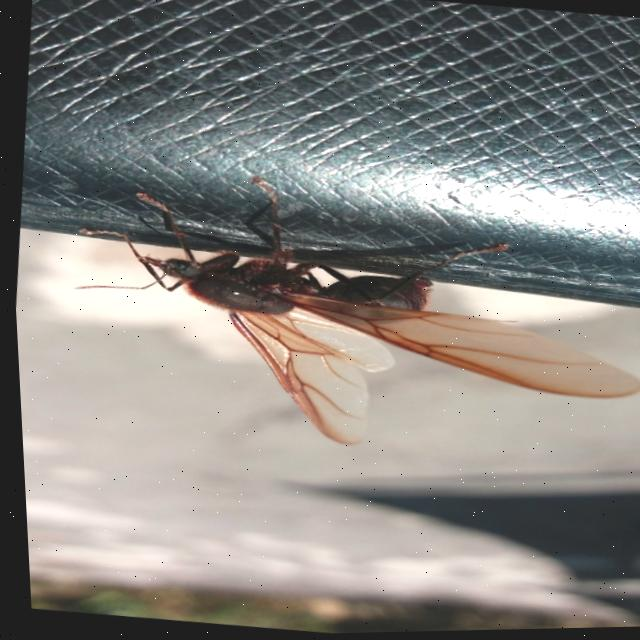Alive-Male-Alate: (51, 152, 640, 481)
